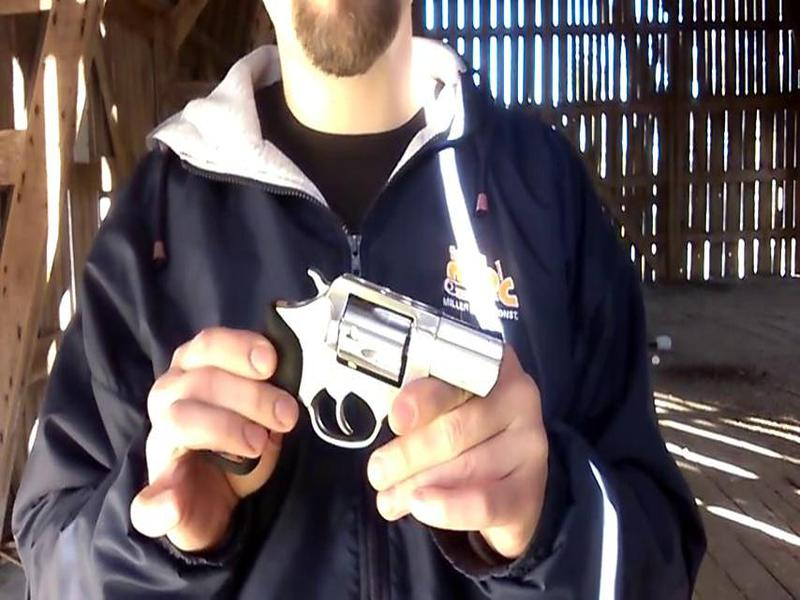Revolver: (190, 259, 508, 496)
